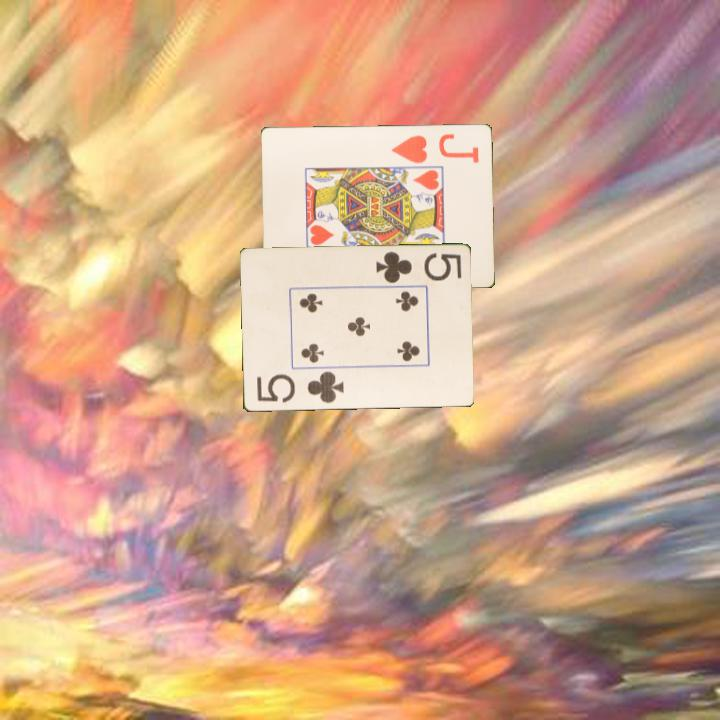5c: (253, 368, 347, 406), (371, 248, 464, 286)
Jh: (388, 130, 482, 166)
